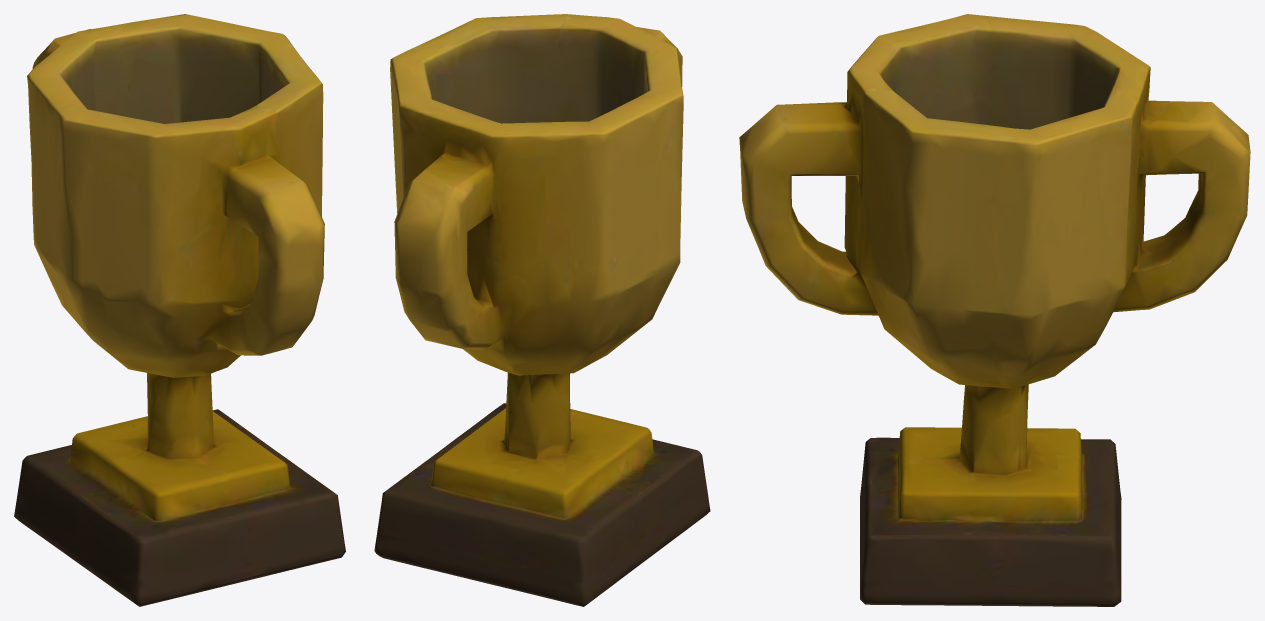
Rendered from trophies.glb.
3 renders of one model, left to right at view 1: azimuth 30°, elevation 25°; view 2: azimuth 150°, elevation 25°; view 3: azimuth 270°, elevation 25°, orthographic. The views are drawn at different scales.
Parts seen in each view (by area): view 1: tripo_node_14183a44-7b00-4499-bc70-f3cf2bd880c7; view 2: tripo_node_14183a44-7b00-4499-bc70-f3cf2bd880c7; view 3: tripo_node_14183a44-7b00-4499-bc70-f3cf2bd880c7.
Boxes of the visible parts, <box> form: tripo_node_14183a44-7b00-4499-bc70-f3cf2bd880c7: <box>14,14,345,606</box>; tripo_node_14183a44-7b00-4499-bc70-f3cf2bd880c7: <box>374,14,710,606</box>; tripo_node_14183a44-7b00-4499-bc70-f3cf2bd880c7: <box>739,14,1250,606</box>.
Size of the model in its own units: 1.15 by 2 by 1.92.
Materials: 1 (1 with a texture image).
